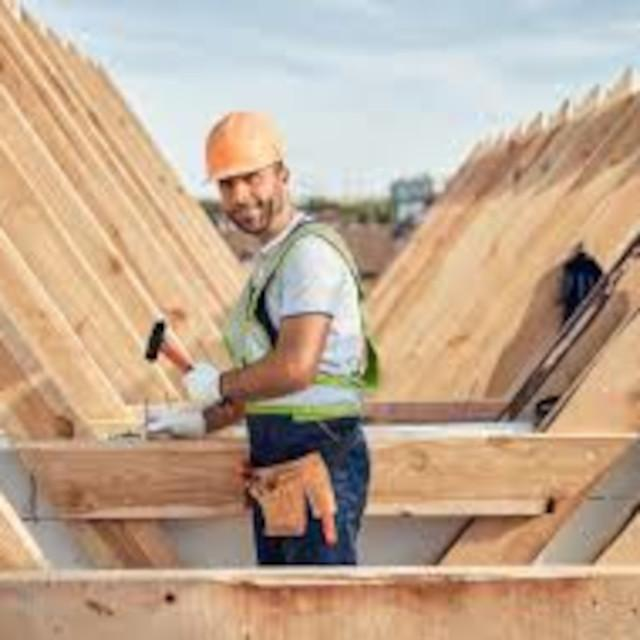mezczyzna: (157, 109, 361, 572)
